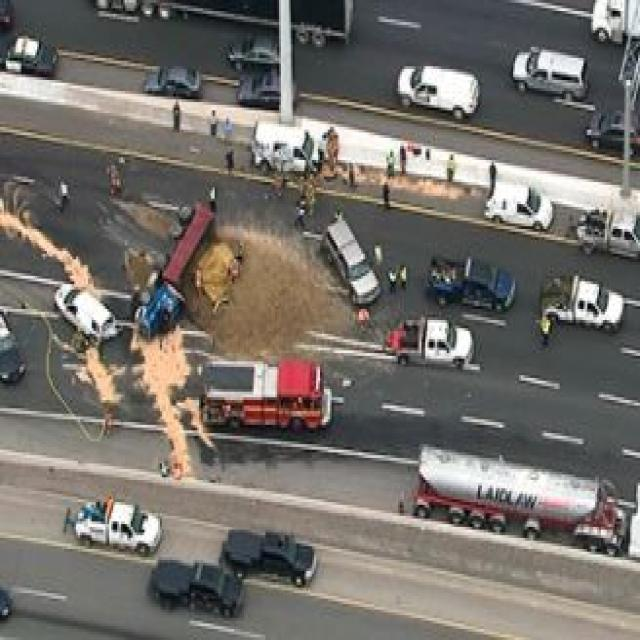traffic_incident: (115, 190, 295, 350)
